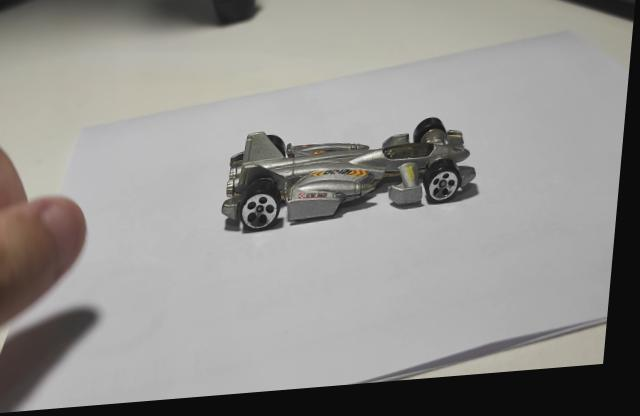05_DC121: (224, 126, 485, 241)
